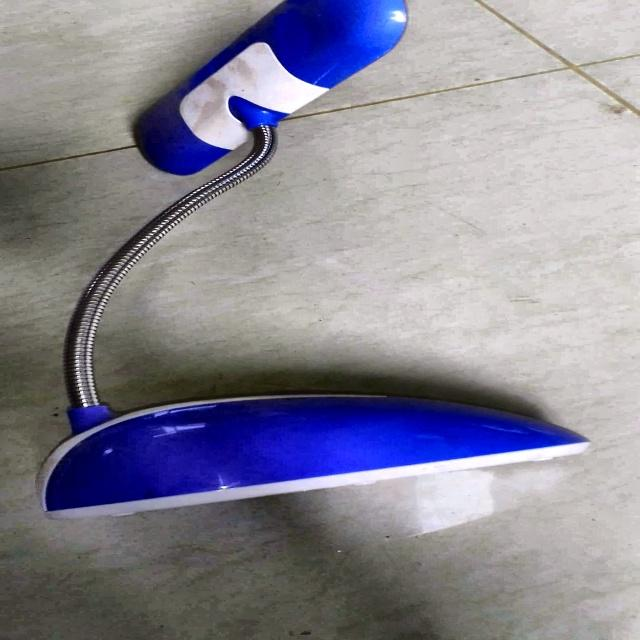Lantern: (7, 0, 617, 562)
